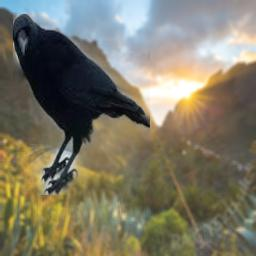Crow: (13, 14, 150, 195)
